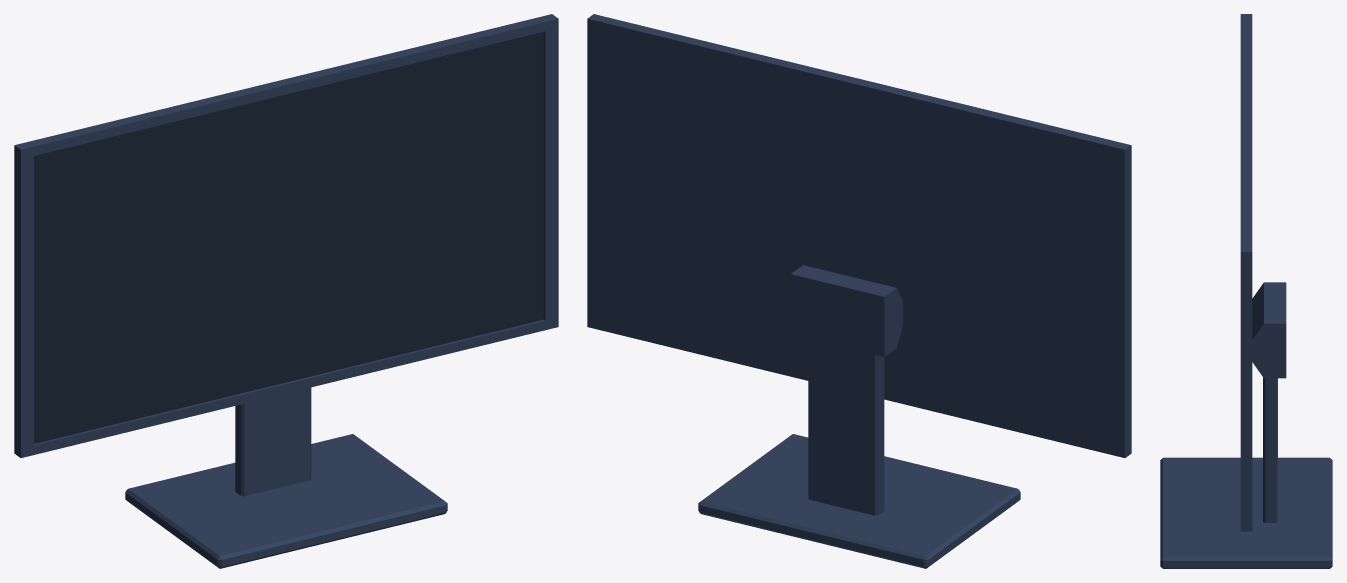
Rendered from monitor.glb.
The picture shows the model from 3 angles, left to right: view 1: azimuth 30°, elevation 25°; view 2: azimuth 150°, elevation 25°; view 3: azimuth 270°, elevation 25°; orthographic projection. The views are drawn at different scales.
Visible parts, largest first — view 1: Monitor1; view 2: Monitor1; view 3: Monitor1.
Boxes of the visible parts, bbox=[...] form: Monitor1: bbox=[14, 14, 558, 568]; Monitor1: bbox=[587, 14, 1131, 568]; Monitor1: bbox=[1160, 14, 1332, 568].
Bounding box in the file's own units: 0.74 × 0.56 × 0.2266.
